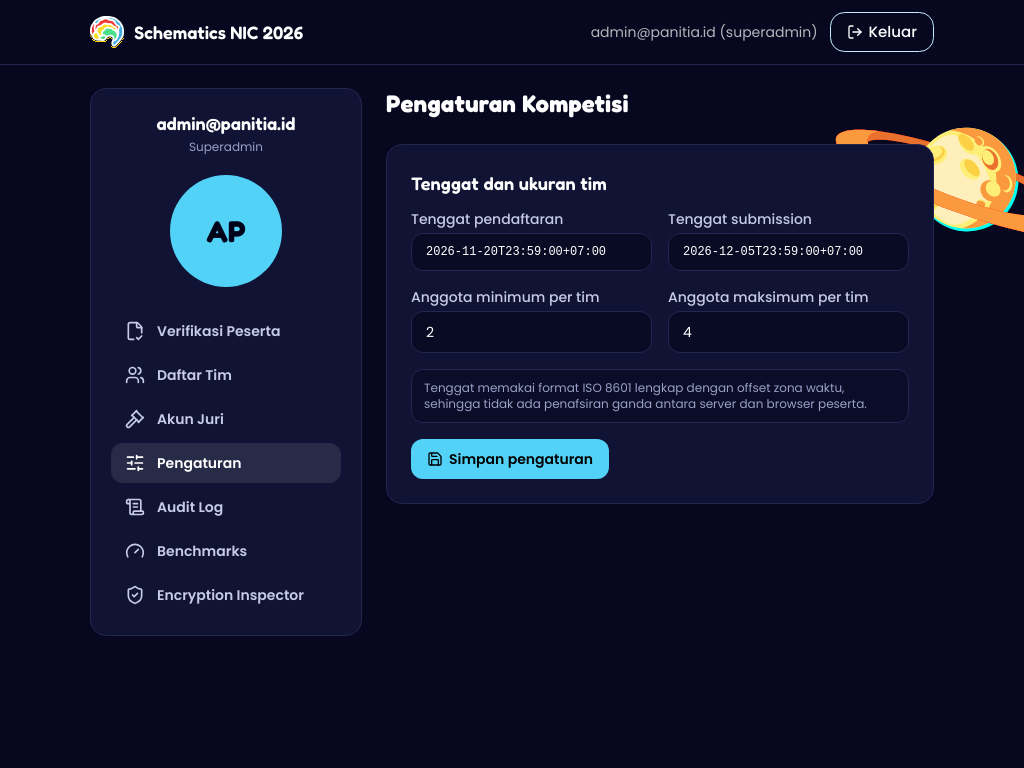
Scenario: Superadmin competition settings › rejects a deadline that is not a parseable timestamp before sending it
Type "besok sore" into the field with test id "registration-deadline-input" at [532, 252], box [411,233,652,271]
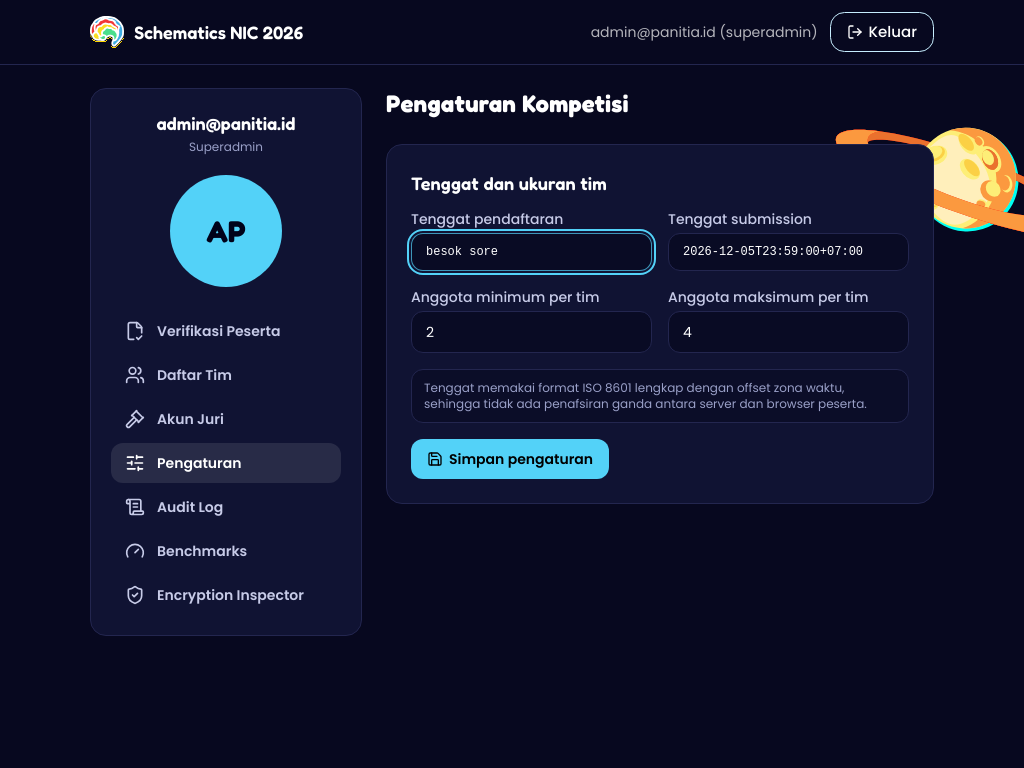
Click the button with test id "save-settings-btn" at [510, 459], box [411,439,609,479]
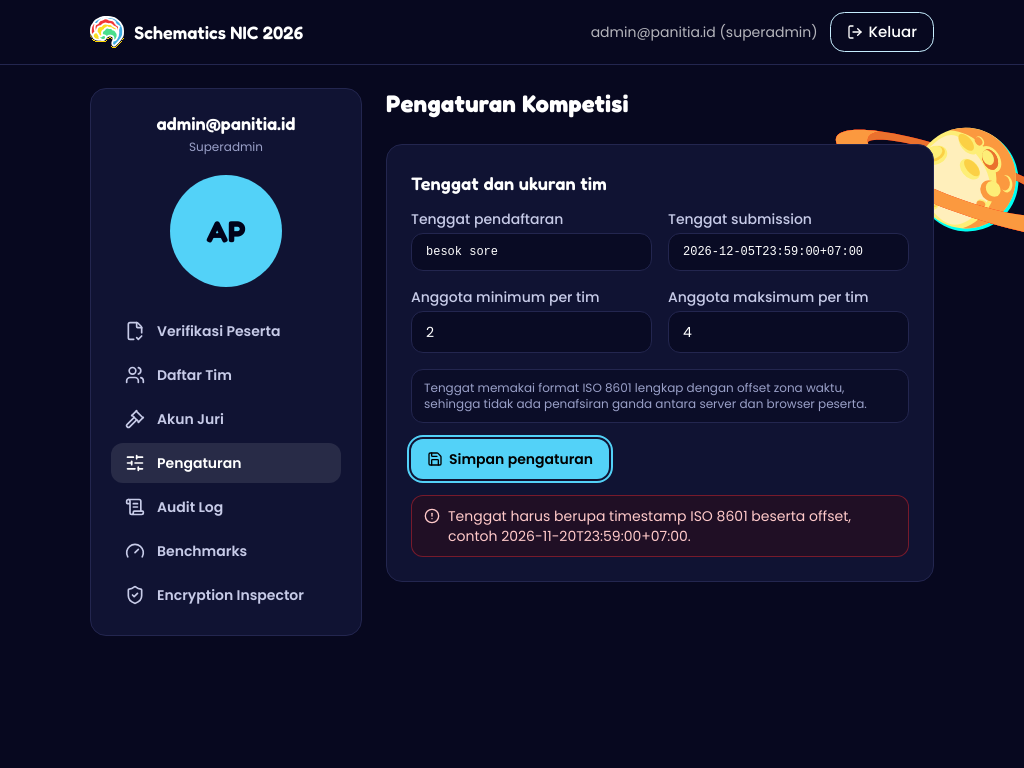
Check: the message with test id "settings-error" shows "Tenggat", box [448,506,851,546]
